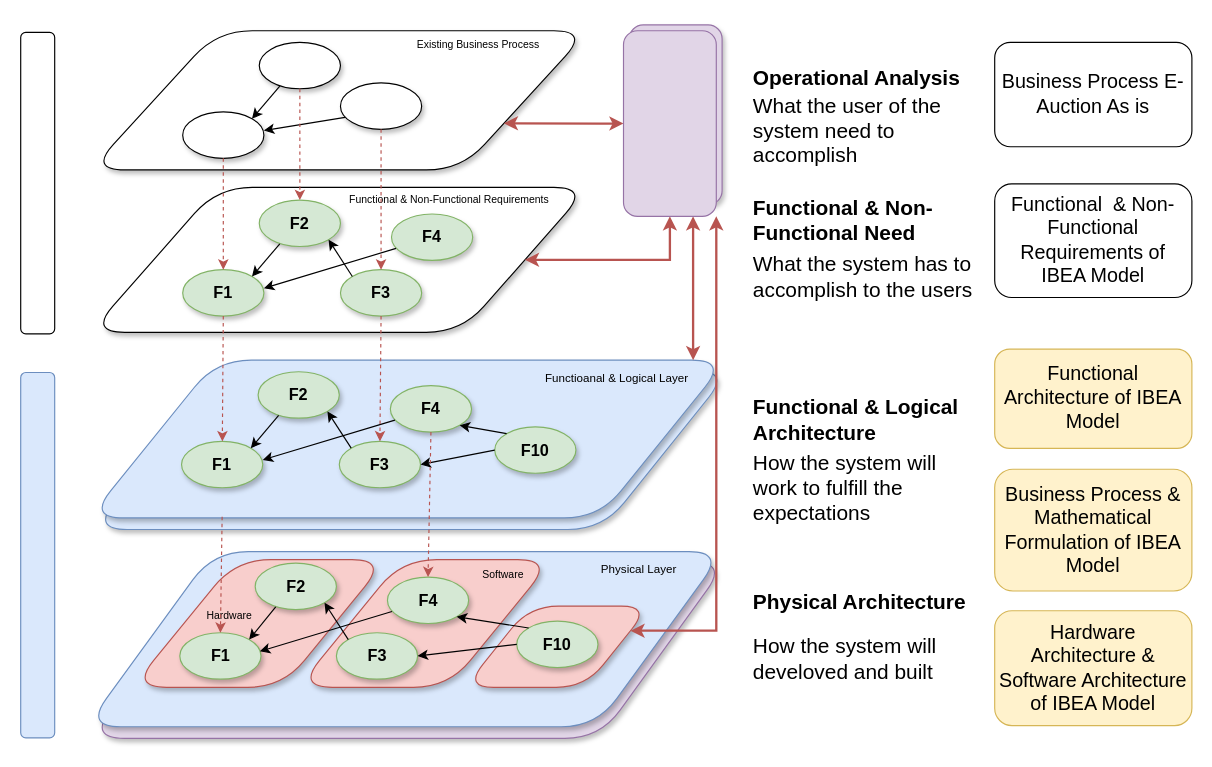
The diagram is 1212 pixels wide and 767 high, and some of its shapes have lost their labels. The shapes that lost their labels are listed below. From the top down, each one's centre as x and y in pixels, then its label:
[300,67]: A2
[382,107]: A3
[669,123]: Reqs
[224,136]: A1
[37,182]: Need Understanding
[37,554]: Solution architectural design
